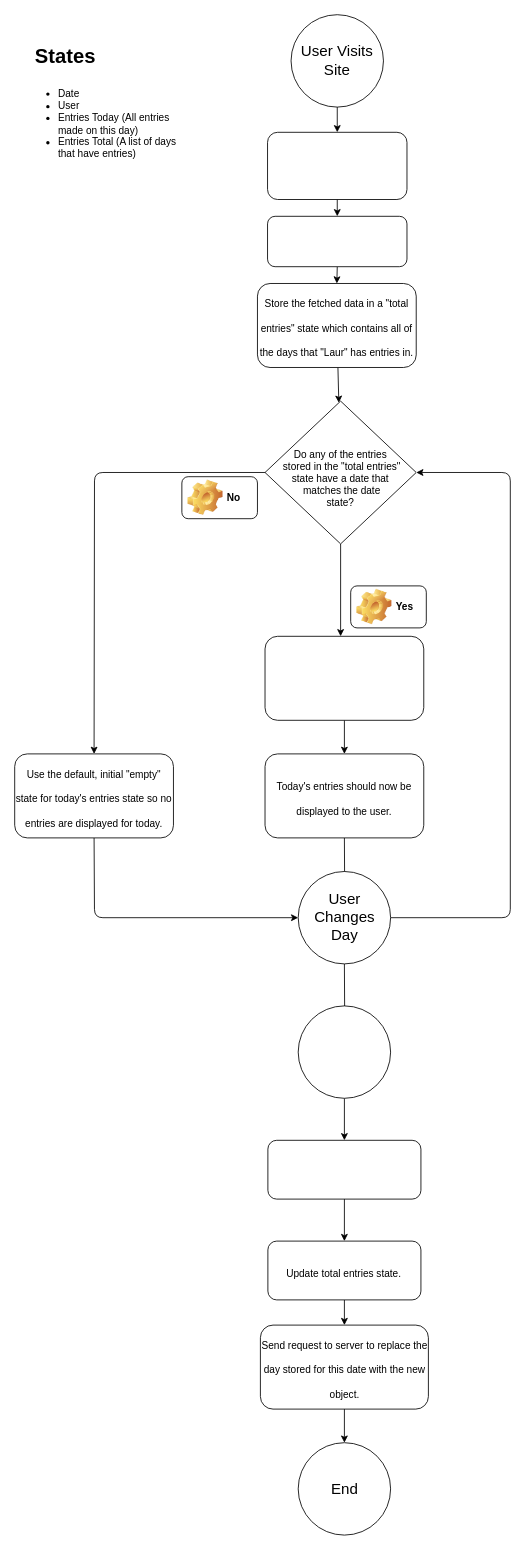
Some shapes in this 532 by 1550 pixel diagram are drawn without their labels. Each missing label, with the centre of its shape:
Fetch data from database for user "Laur": (337,241)
Set "date" state as current date, and "user" state as "Laur": (337,165)
Store the object containing this date in "today's entries" state.: (344,677)
Update today's entries state.: (344,1169)
User Adds/Removes an Item: (344,1051)
